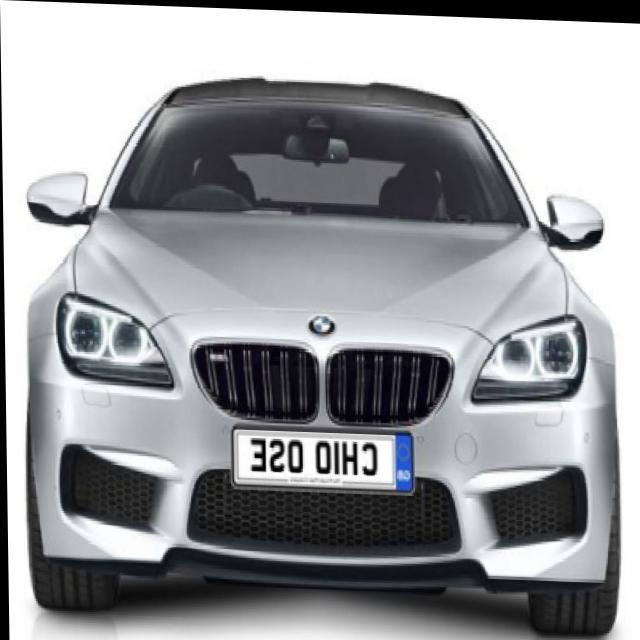licence: (231, 420, 414, 483)
